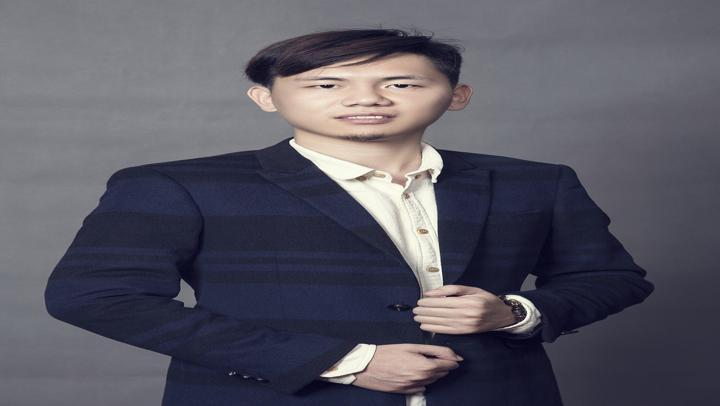safetyhat: (62, 40, 632, 373)
